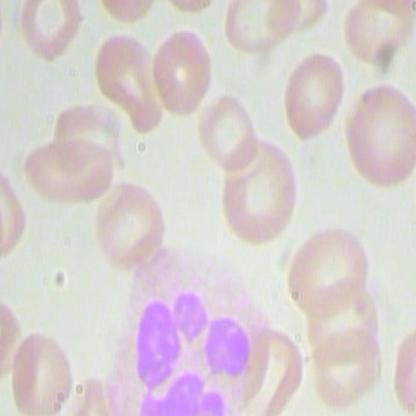RBC: (283, 217, 373, 321), (340, 81, 416, 195), (220, 136, 294, 250), (92, 30, 162, 138), (92, 177, 168, 273), (19, 134, 113, 208), (279, 52, 349, 146), (6, 331, 78, 415), (152, 26, 214, 122), (198, 86, 256, 176), (220, 0, 300, 63), (21, 0, 81, 70), (394, 315, 415, 415)
WBC: (109, 246, 277, 416)
